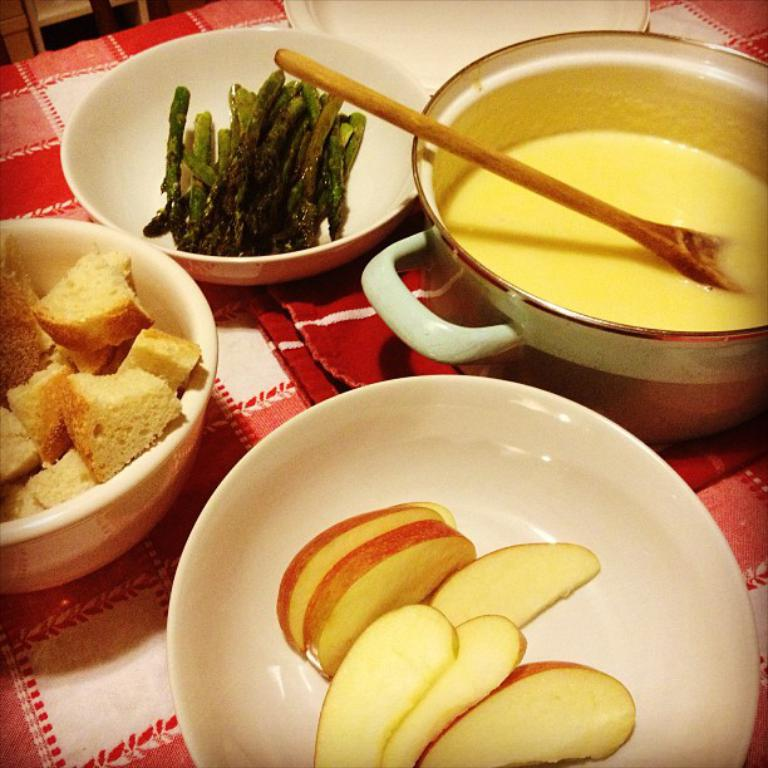Apple: (268, 495, 602, 766), (415, 657, 633, 766)
